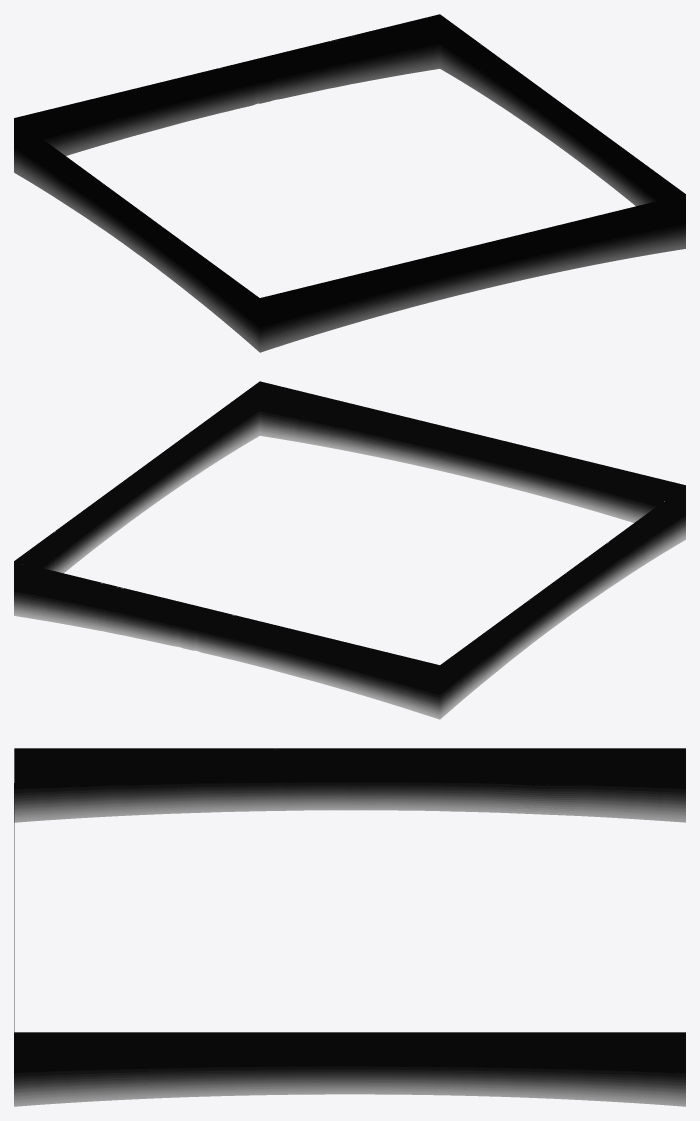
3 renders of one model, top to bottom at view 1: azimuth 30°, elevation 25°; view 2: azimuth 150°, elevation 25°; view 3: azimuth 270°, elevation 25°, orthographic. The views are drawn at different scales.
Parts seen in each view (by area): view 1: Joint_0_Object_0; view 2: Joint_0_Object_0; view 3: Joint_0_Object_0.
Part boxes in pixels (x1,y1,x2,y2): Joint_0_Object_0: (14, 14, 685, 352); Joint_0_Object_0: (14, 381, 685, 719); Joint_0_Object_0: (14, 748, 685, 1106).
Size of the model in its own units: 10000 by 1225 by 10000.
Materials: 1 (1 with a texture image).
